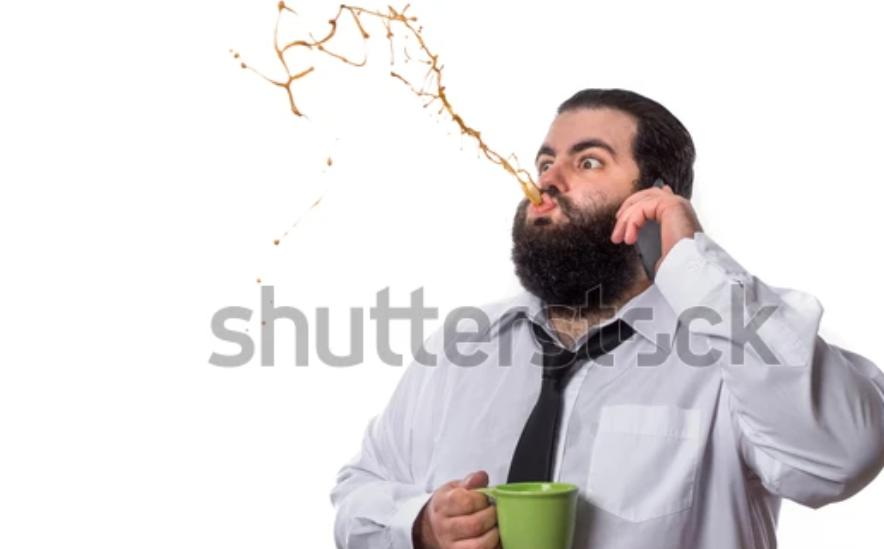Spitting: (378, 14, 788, 331)
